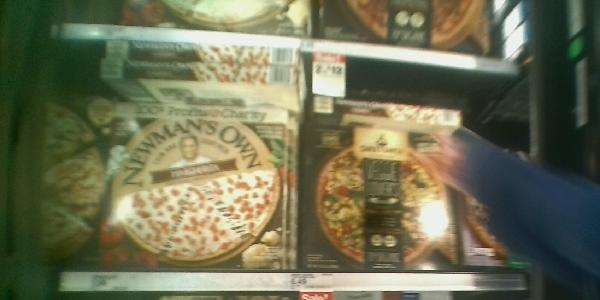pizza: (77, 104, 282, 272), (304, 121, 461, 269)
pizza1: (100, 56, 301, 110), (103, 39, 303, 69), (307, 94, 468, 120)
